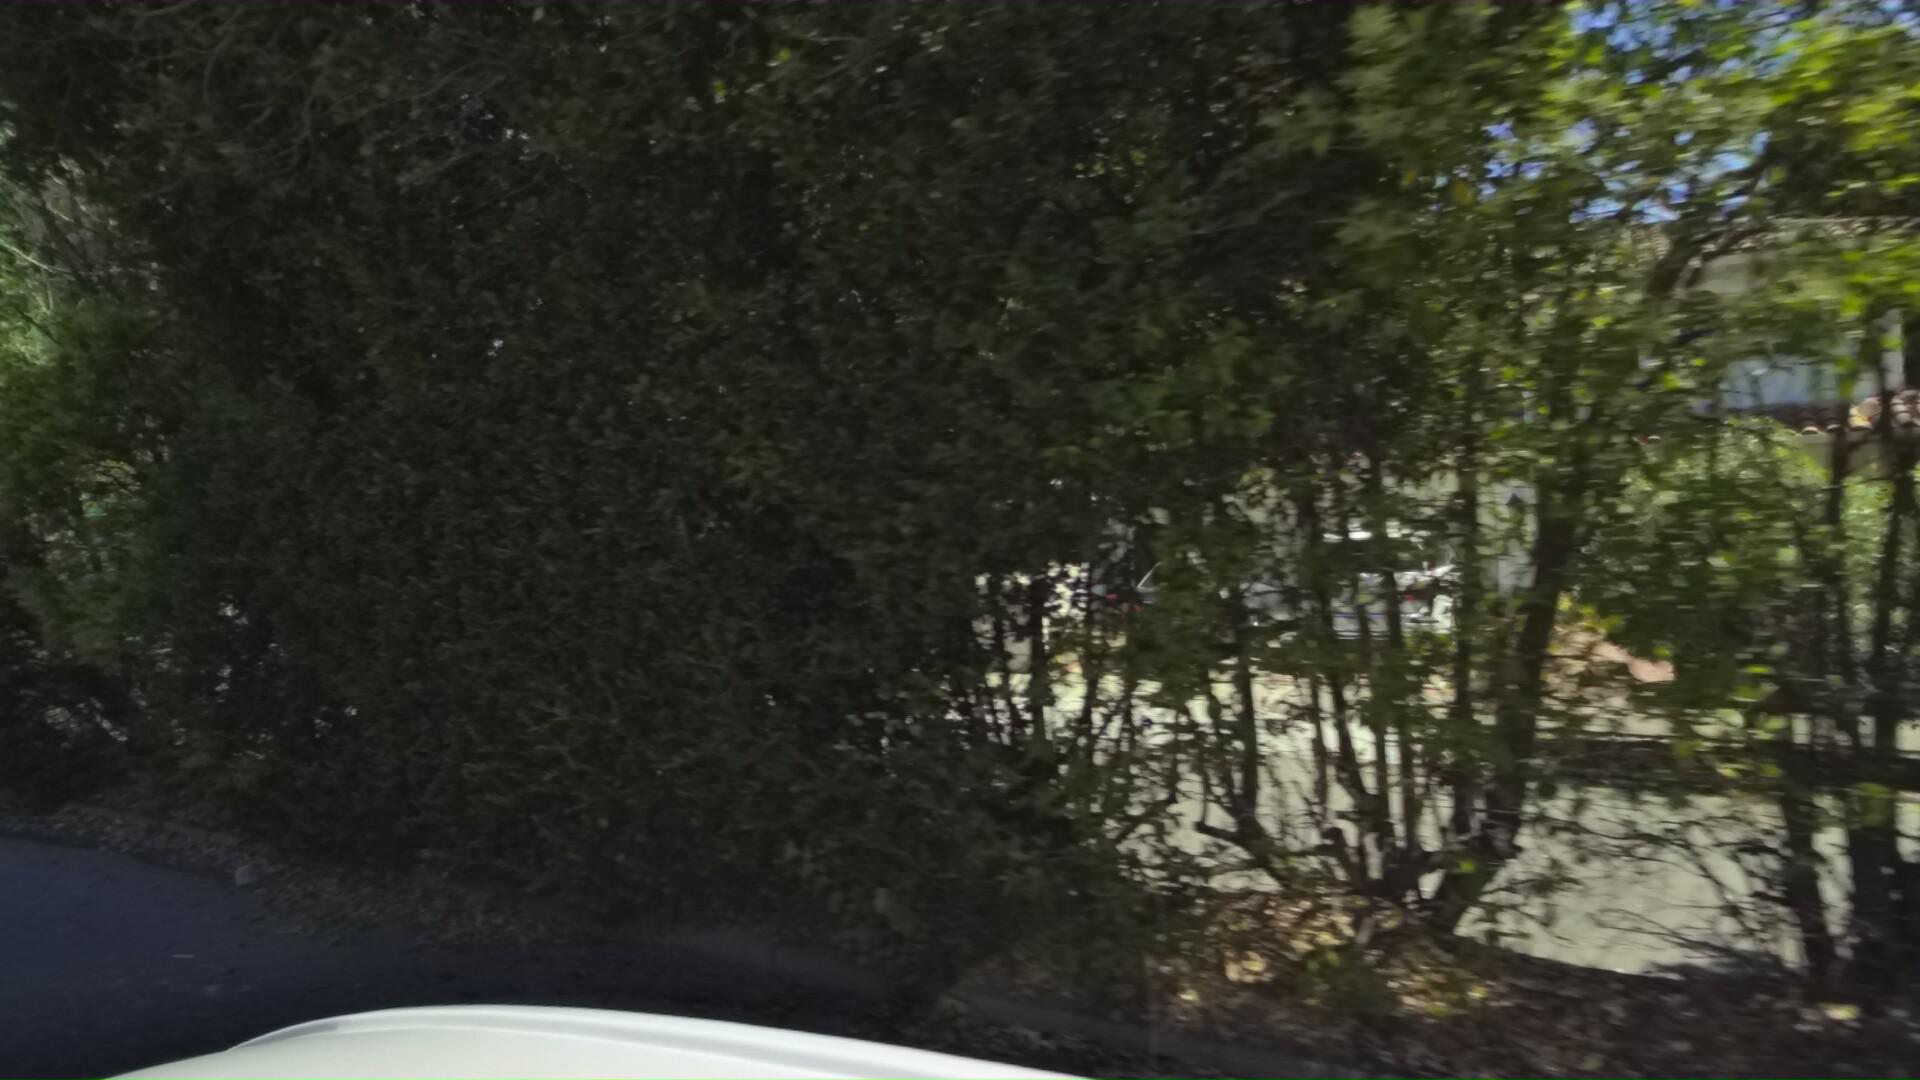car: (1309, 504, 1511, 676), (1129, 534, 1335, 666)
